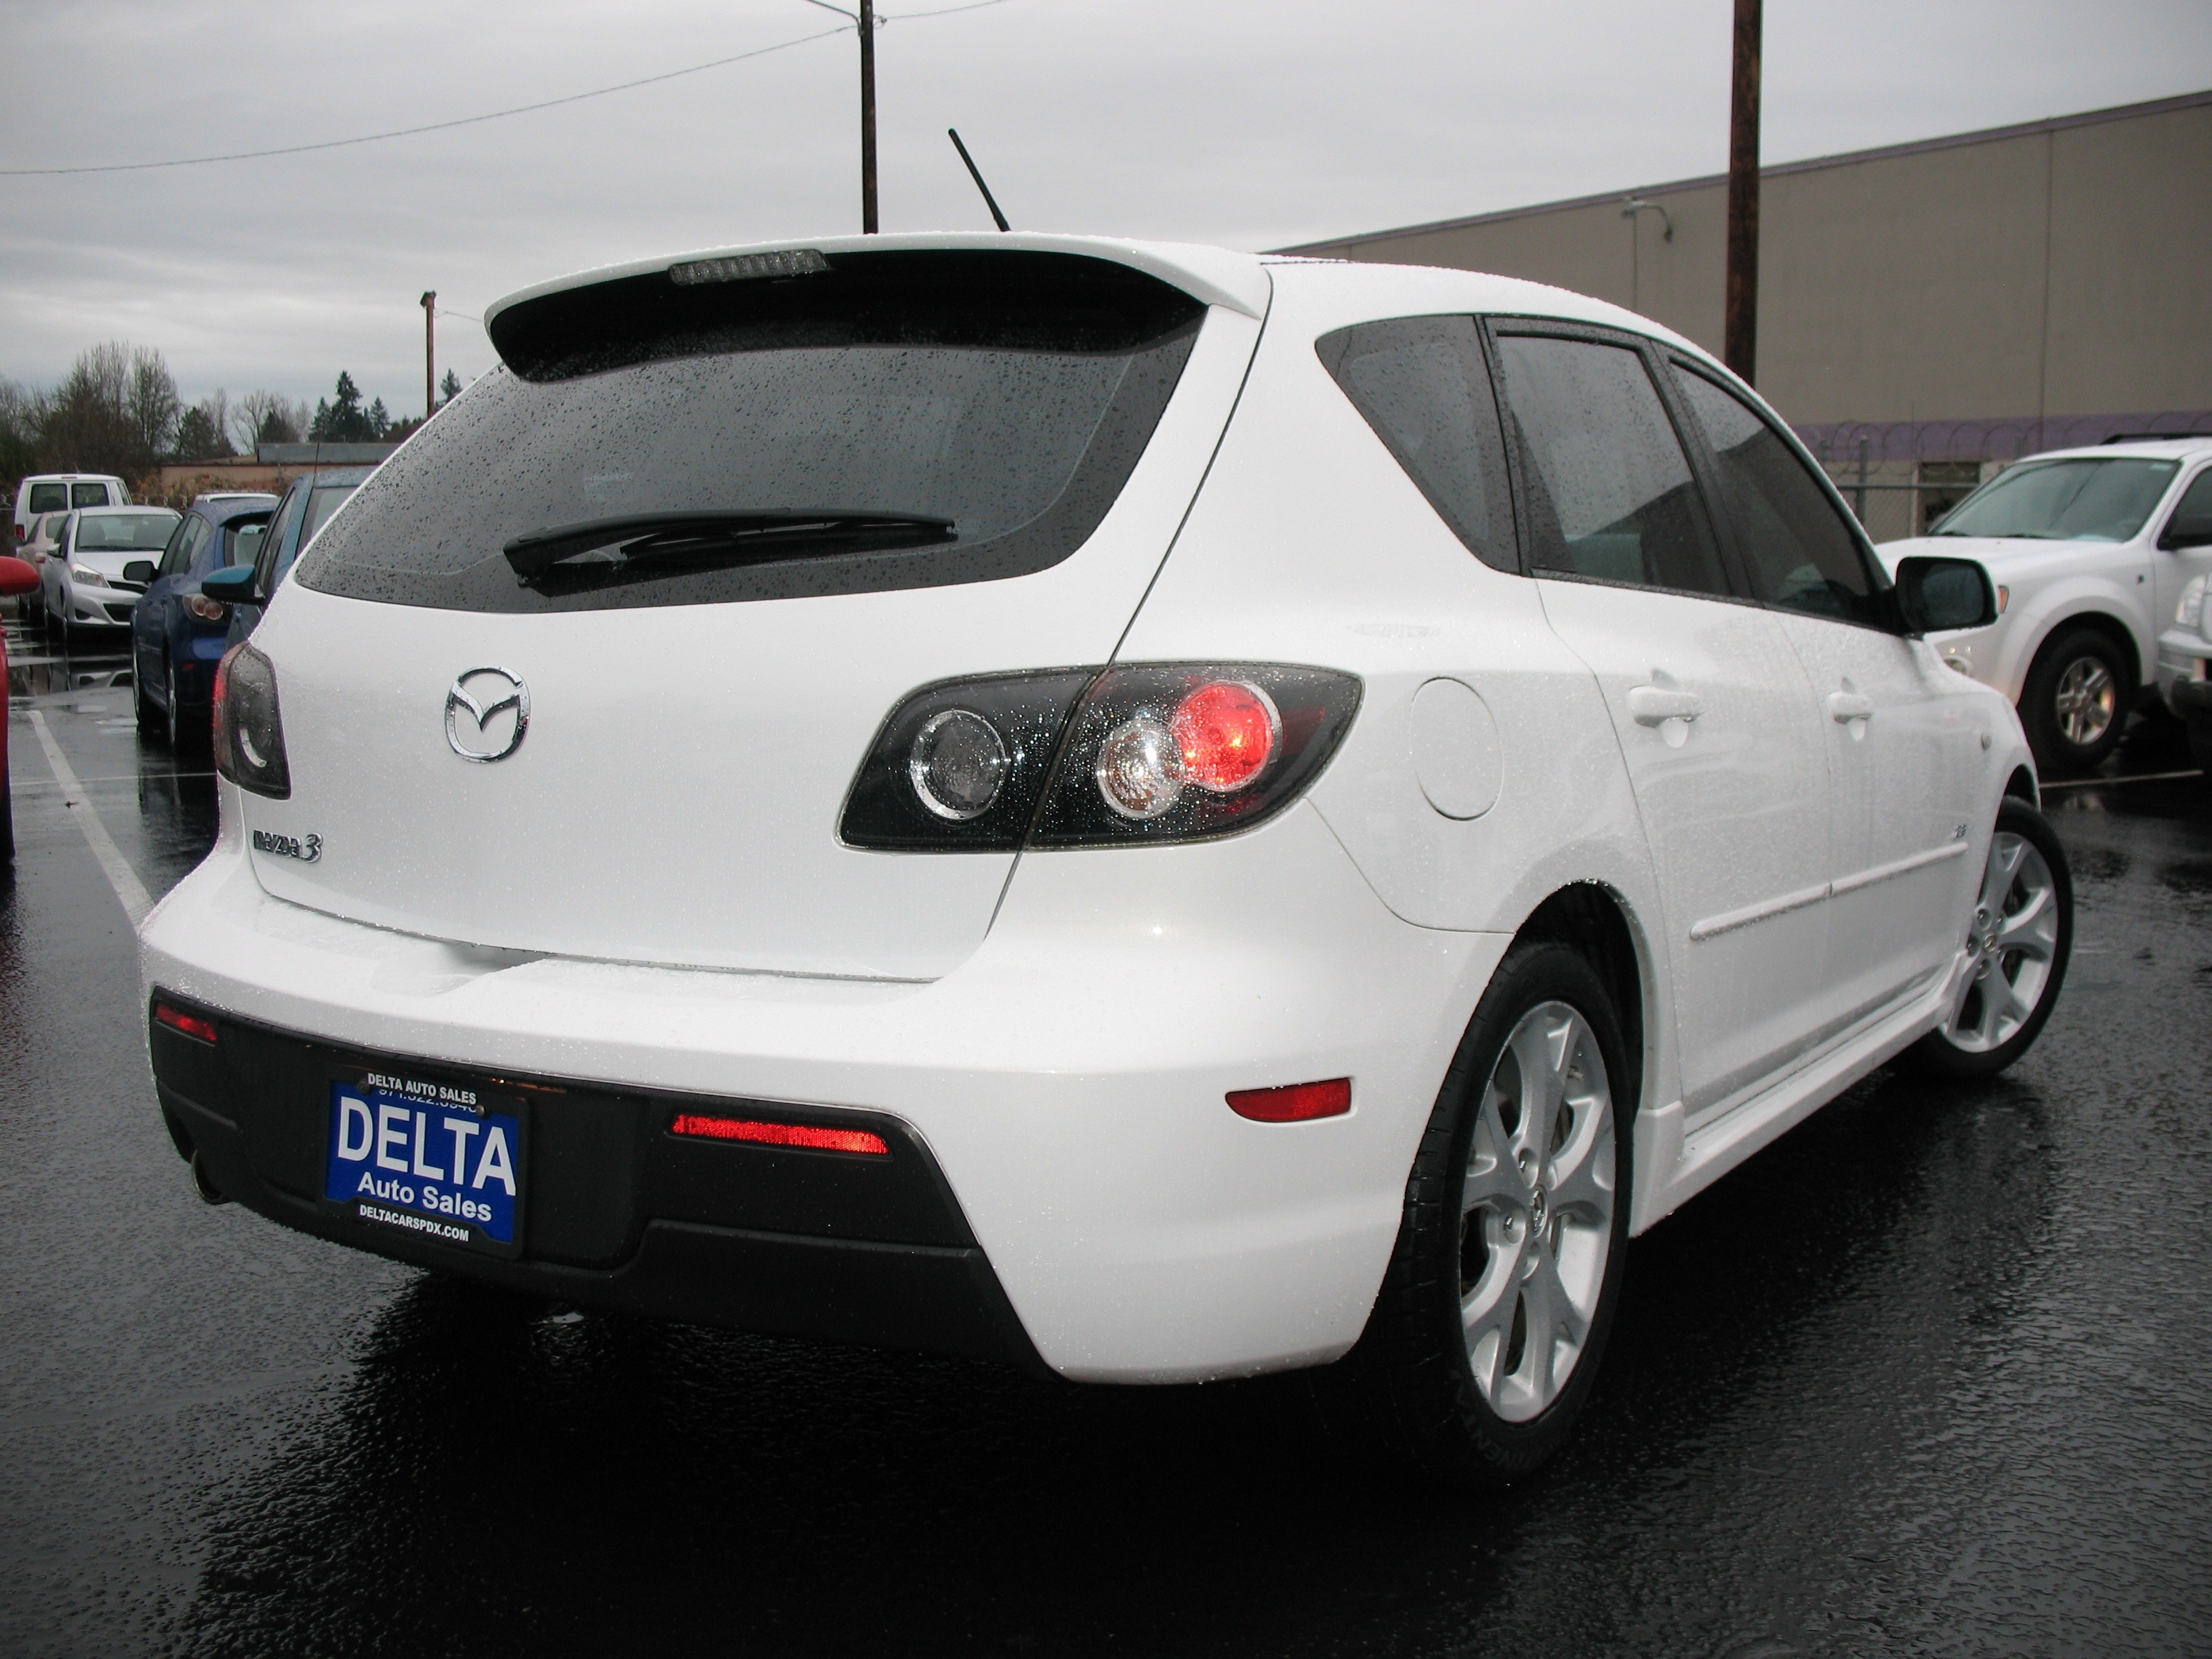Mazda3 Hatchback: (132, 246, 2074, 1490)
